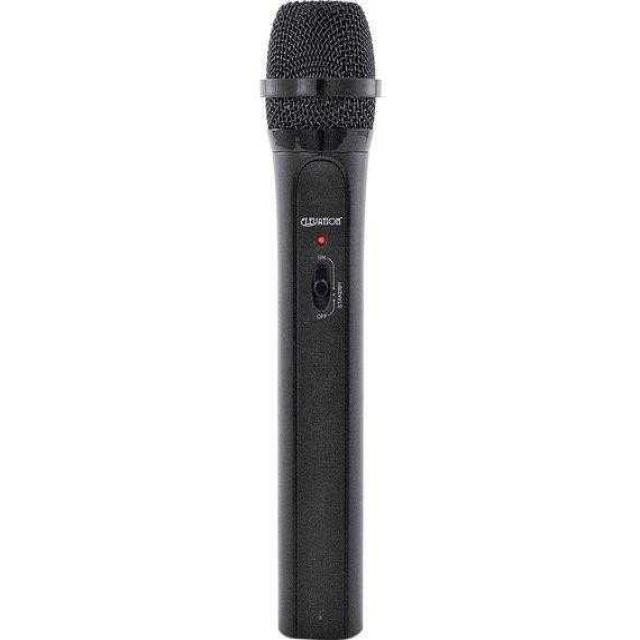microphone: (266, 2, 375, 640)
